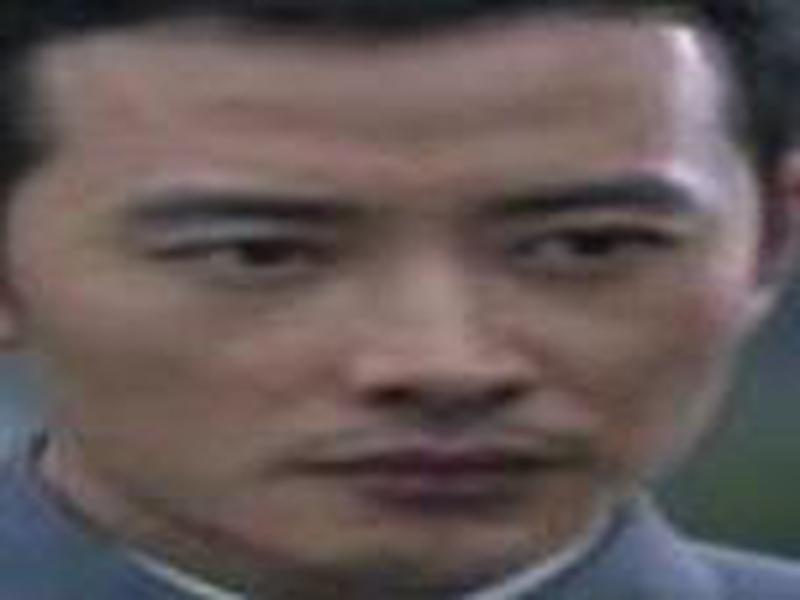without_mask: (25, 51, 751, 576)
